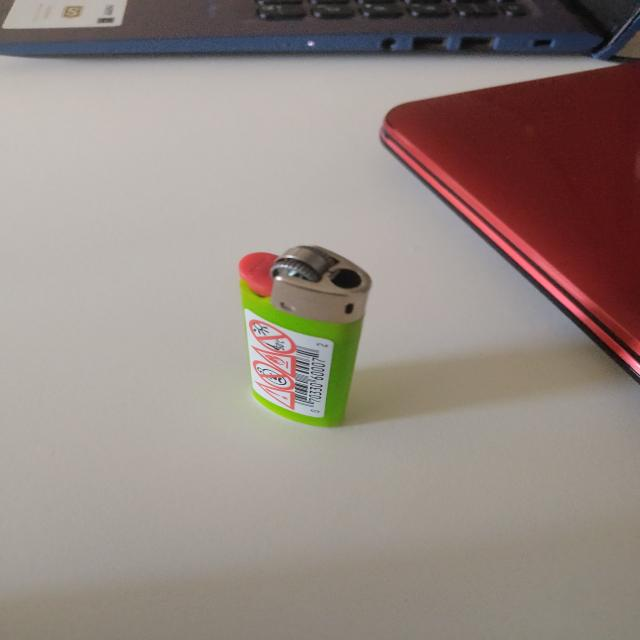lighter: (240, 242, 369, 430)
